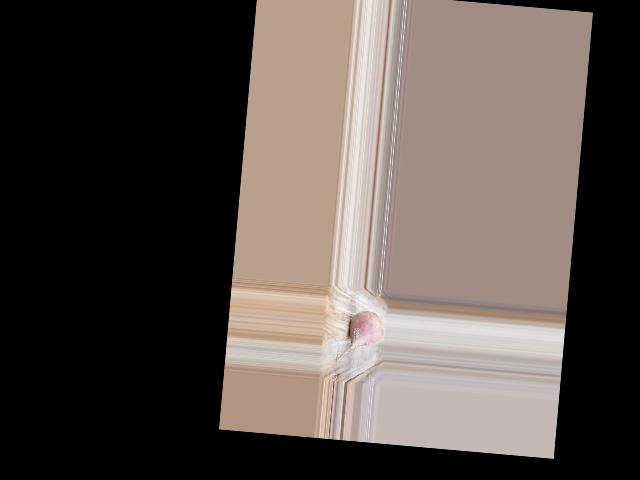beet: (336, 308, 386, 365)
